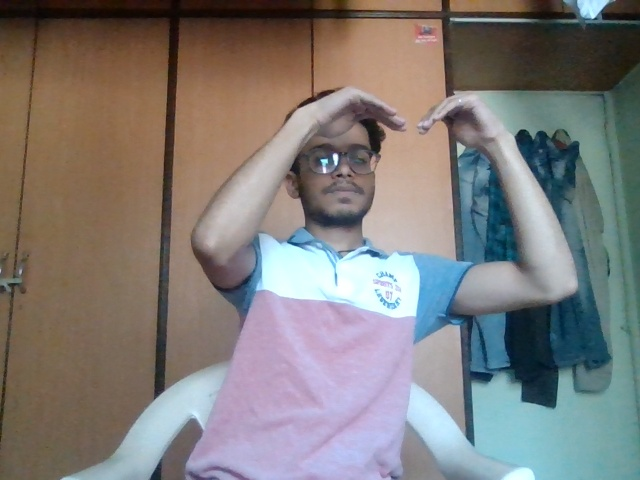we: (280, 90, 523, 203)
